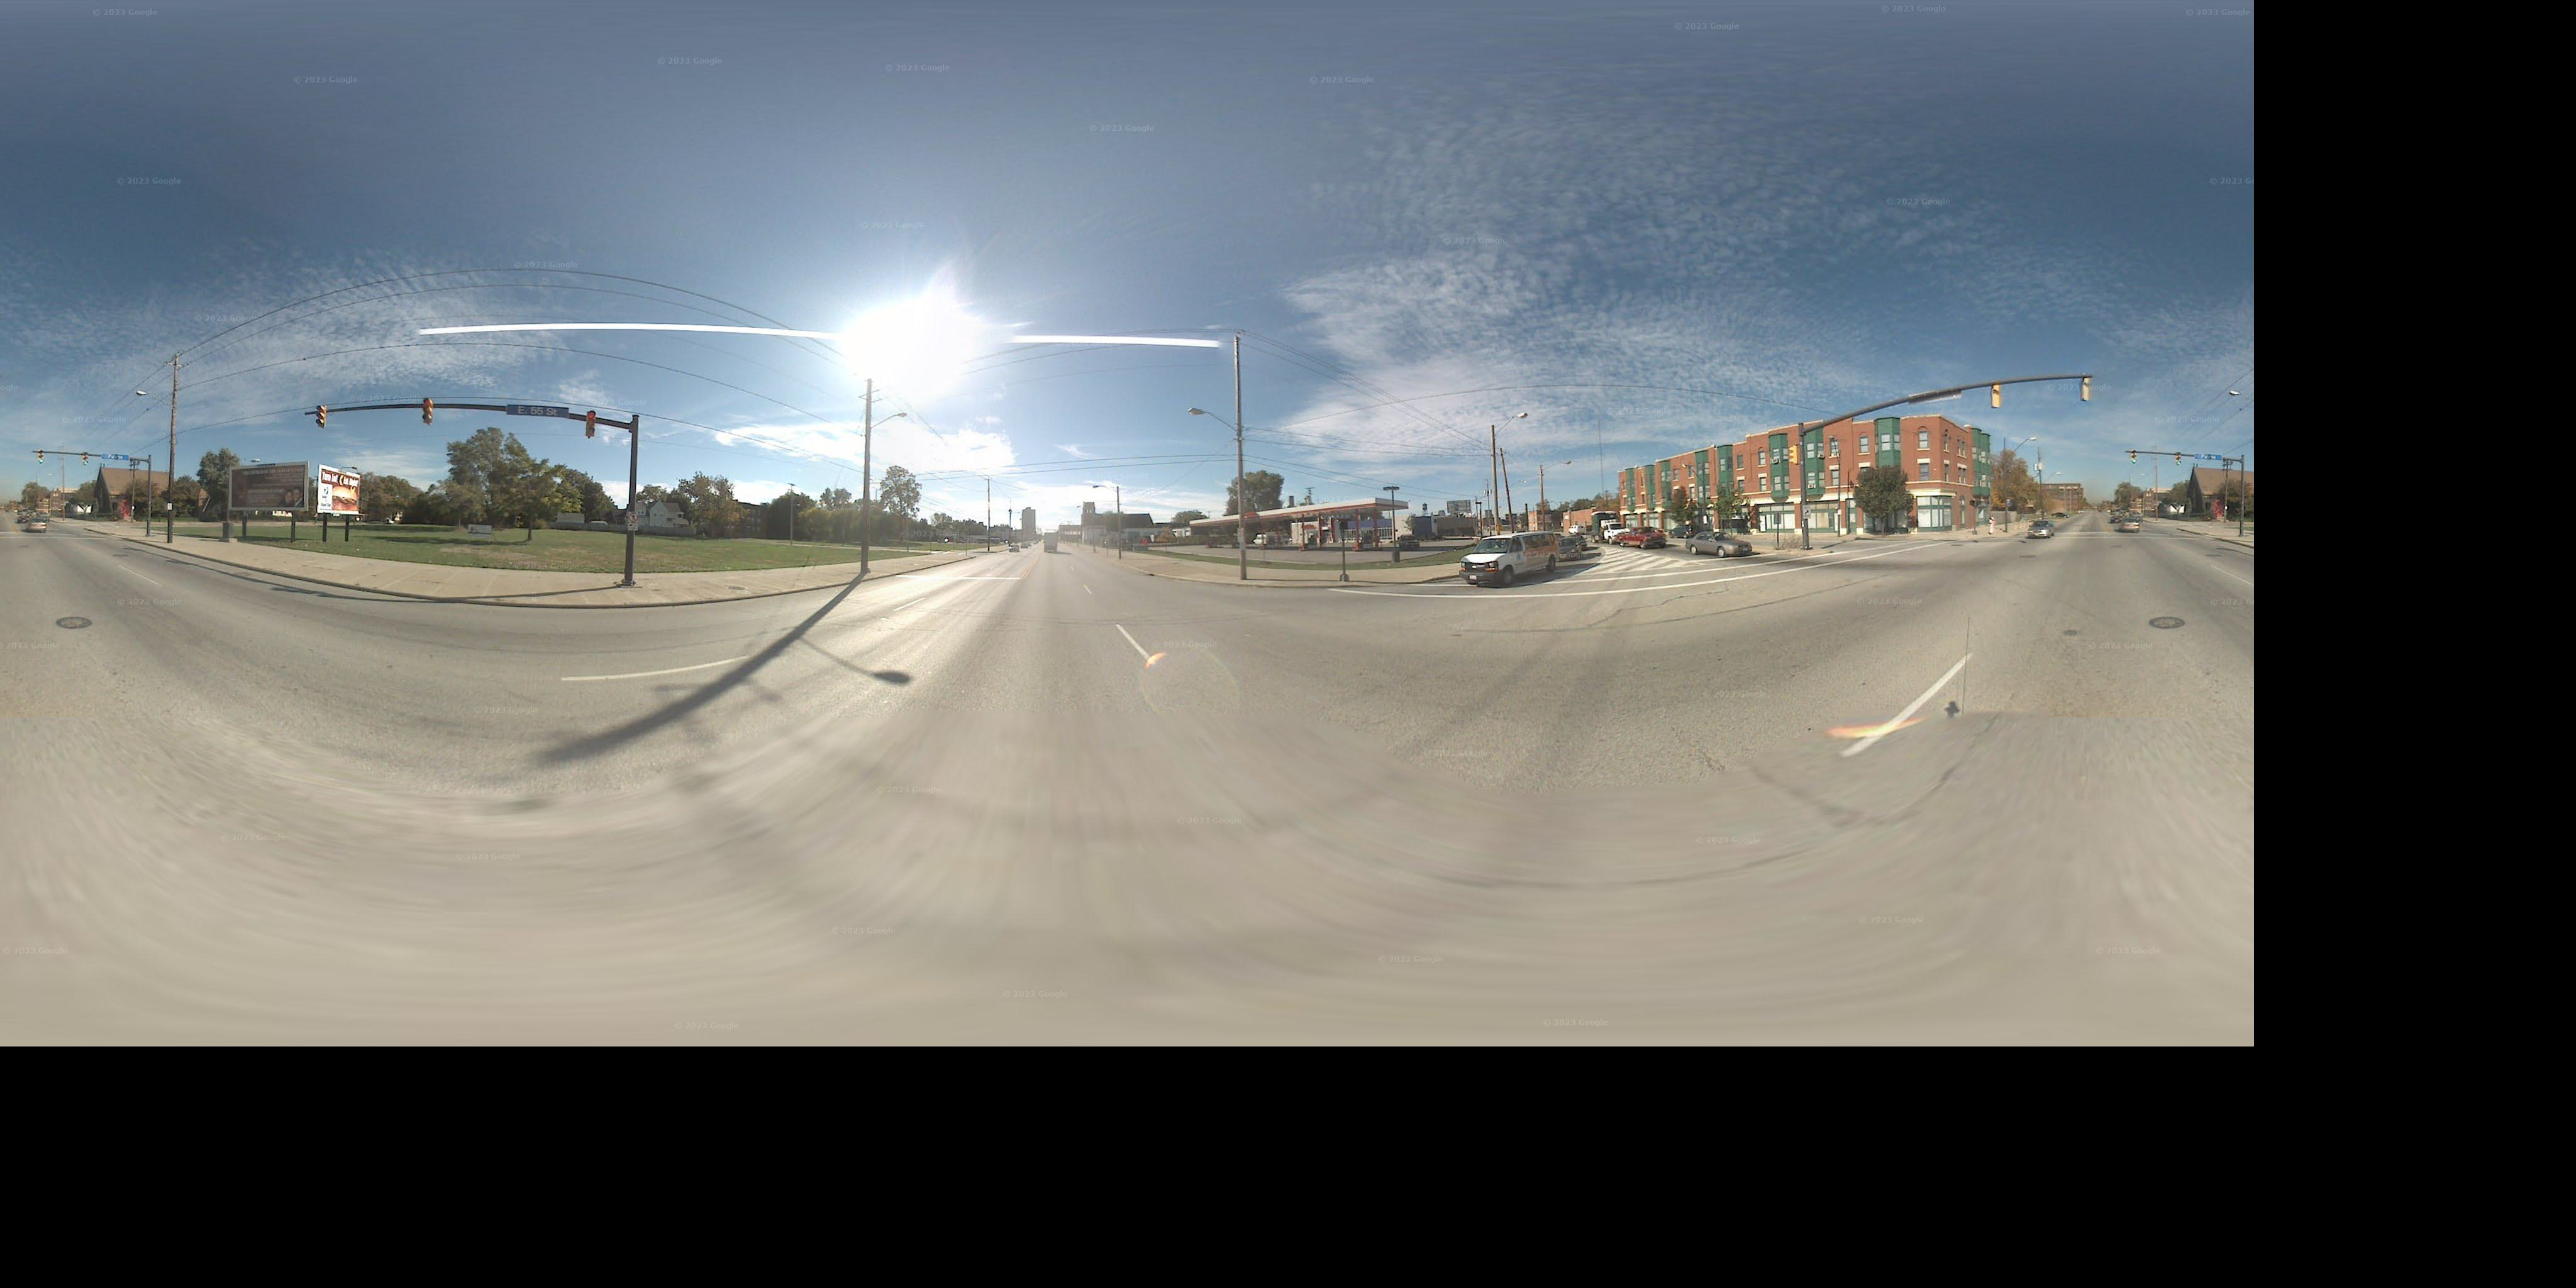Curb Ramp: (1352, 572, 1424, 596)
